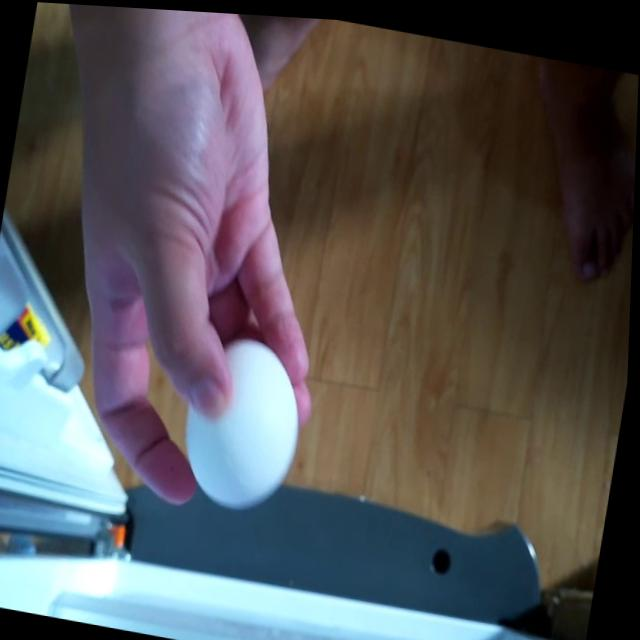egg: (175, 323, 317, 517)
